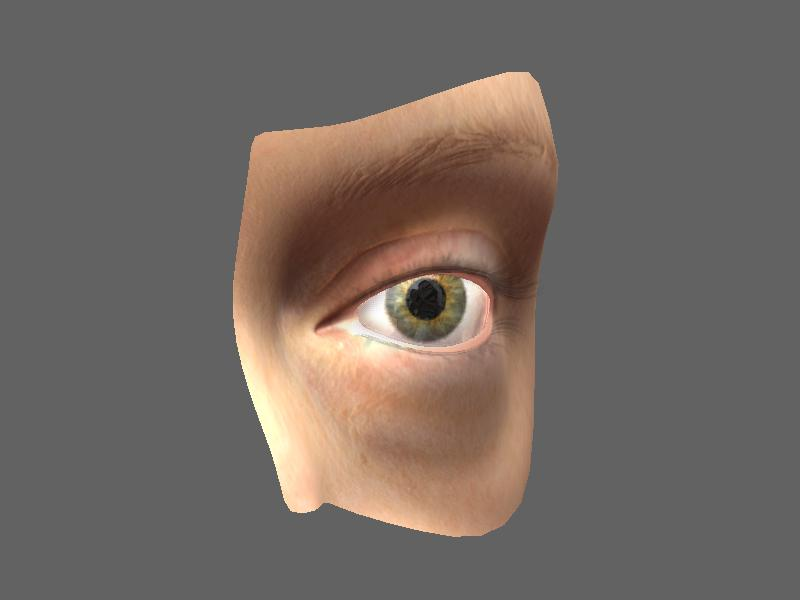iris: (385, 273, 469, 337)
